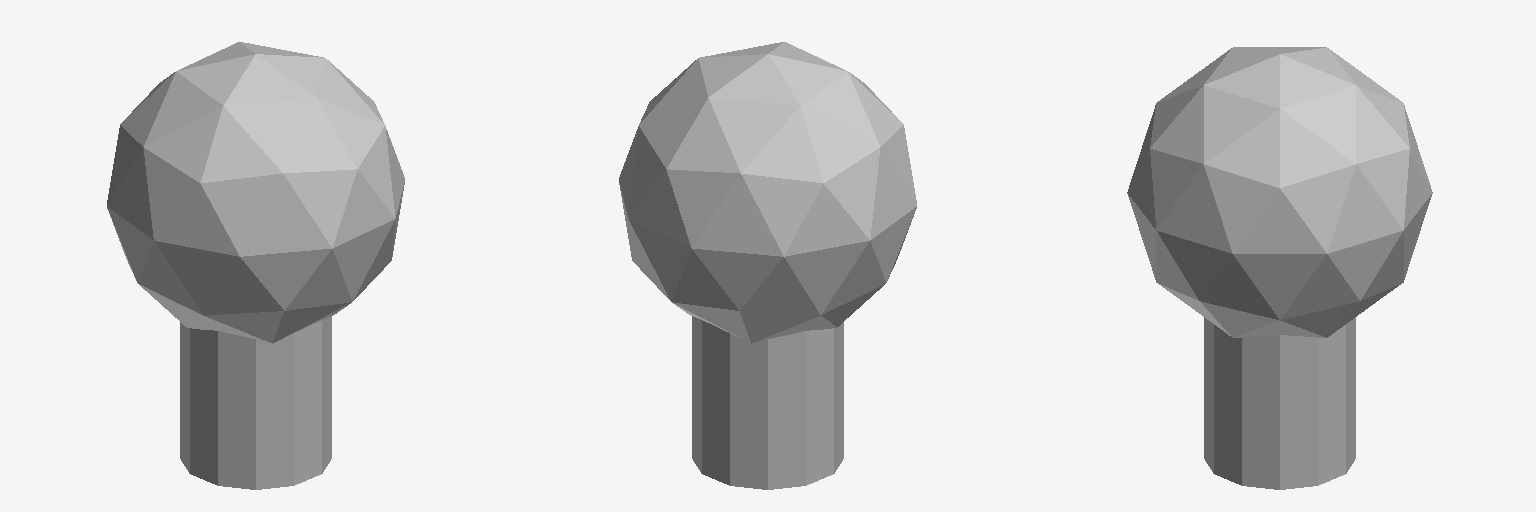
File: tree.obj
3 views of the same model, side by side, from view 1: azimuth 30°, elevation 25°; view 2: azimuth 150°, elevation 25°; view 3: azimuth 270°, elevation 25° (orthographic).
Parts seen in each view (by area): view 1: Icosphere, Cylinder; view 2: Icosphere, Cylinder; view 3: Icosphere, Cylinder.
Part boxes in pixels (bbox=[...]): Icosphere: bbox=[107, 42, 404, 343]; Cylinder: bbox=[180, 316, 331, 489]; Icosphere: bbox=[619, 42, 916, 343]; Cylinder: bbox=[692, 316, 843, 489]; Icosphere: bbox=[1127, 47, 1432, 337]; Cylinder: bbox=[1204, 317, 1355, 489].
Bounding box in the file's own units: 1.9 × 2.92 × 2.